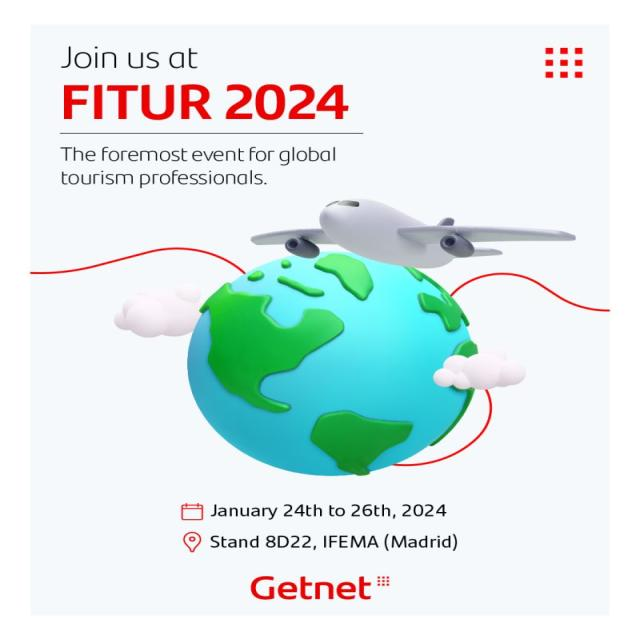getnet: (250, 576, 390, 601)
